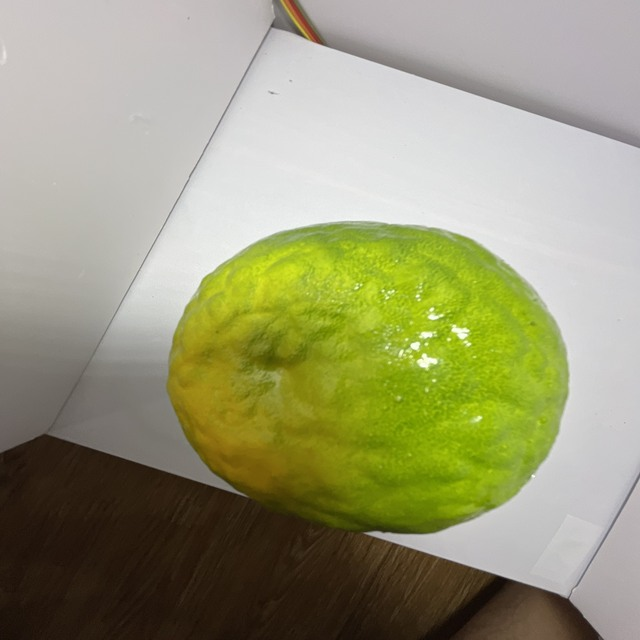Cam xanh: (156, 216, 577, 538)
